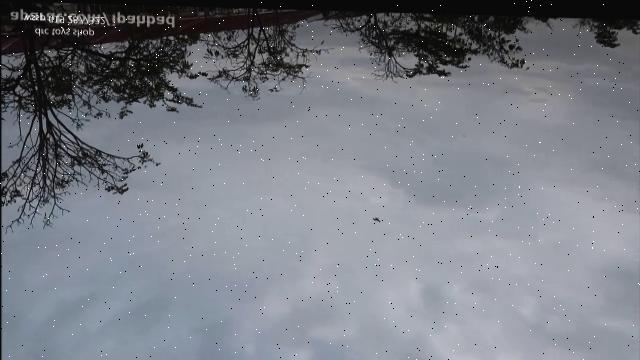drone: (370, 212, 382, 221)
